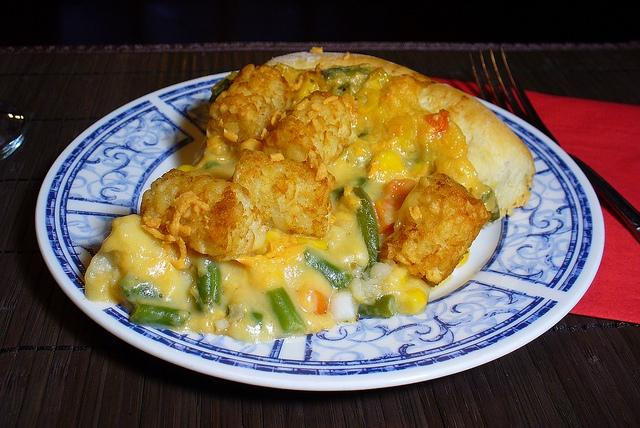green bean: (302, 248, 356, 291), (118, 274, 180, 309), (354, 187, 379, 272), (266, 287, 310, 335), (130, 304, 192, 326), (196, 262, 222, 312), (356, 295, 396, 319), (322, 63, 376, 77), (482, 185, 501, 222), (404, 149, 430, 171), (252, 312, 264, 322)
